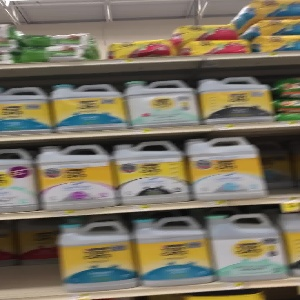void: (1, 215, 56, 298), (263, 124, 300, 196)
